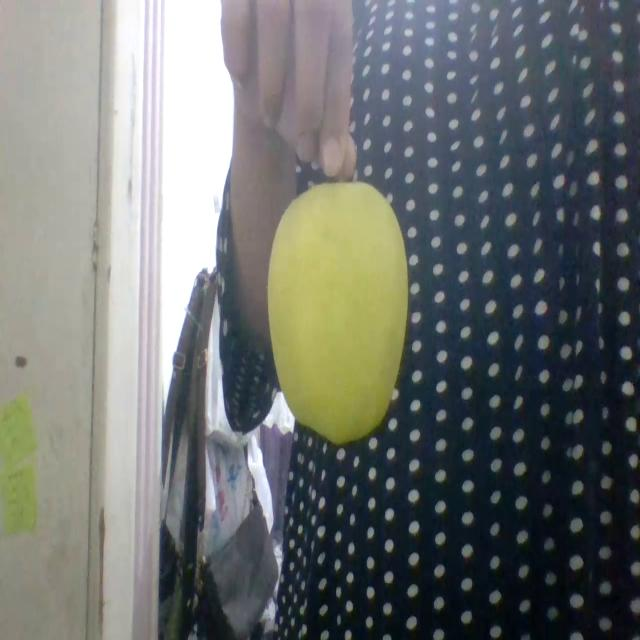50-_ripeness: (268, 182, 408, 444)
